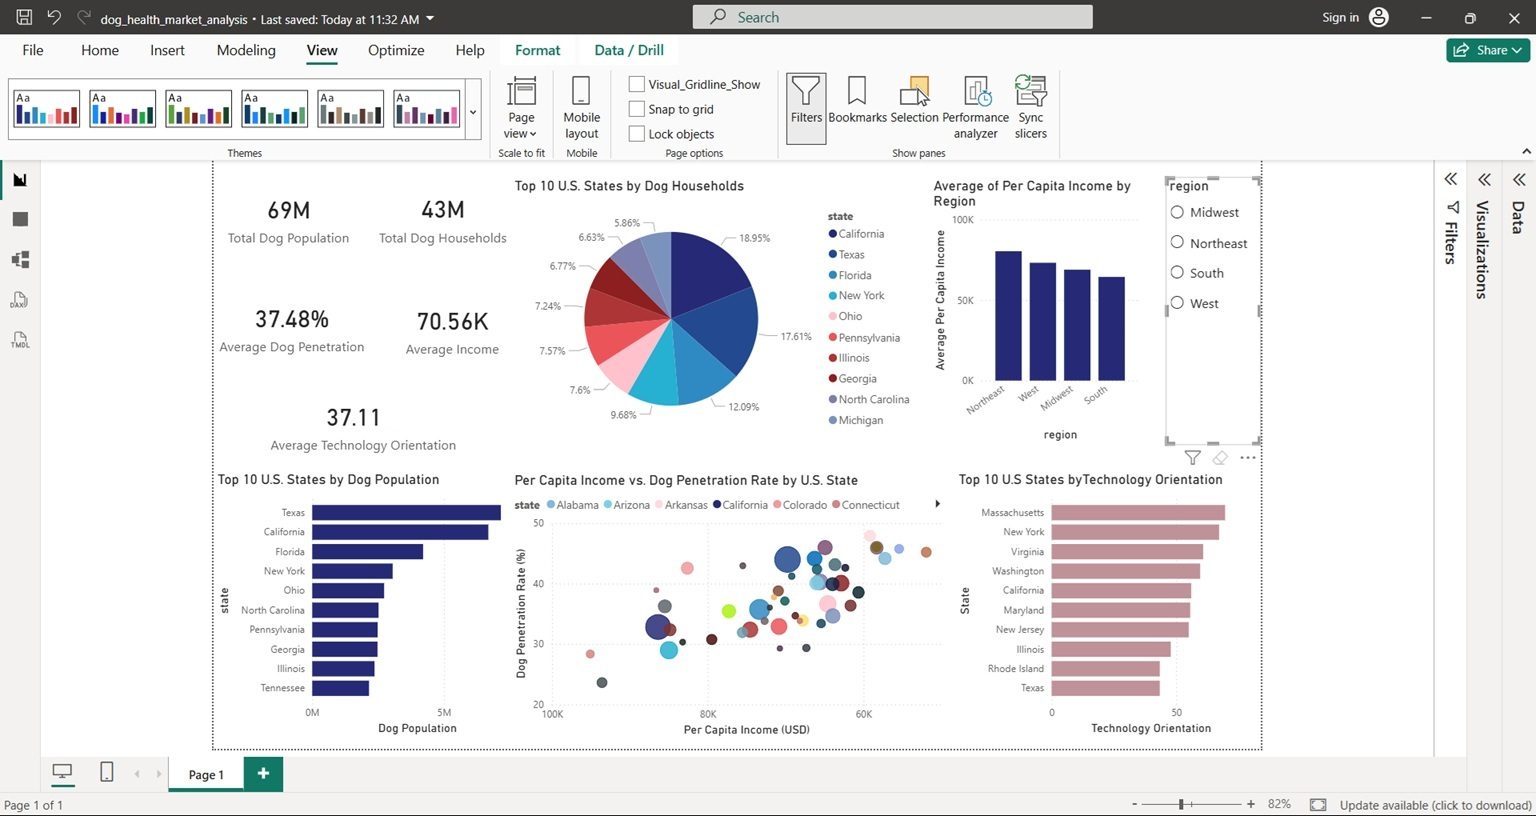

The dashboard page shown, as its layout file describes it:
{"tool":"powerbi","page":{"name":"Page 1","canvas":[1280,720],"ordinal":0},"visuals":[{"type":"card","fields":{"Values":["market market_kpis.Total Dog Households"]},"box":[183.4,0,194.4,139.4],"z":0},{"type":"actionButton","box":[0,0,100,40],"z":1000},{"type":"card","fields":{"Values":["market market_kpis.Total Dog Population"]},"box":[0,0,183.8,140],"z":2000},{"type":"card","fields":{"Values":["market market_kpis.Average Dog Penetration"]},"box":[0,128.4,192,149.2],"z":3000},{"type":"card","fields":{"Values":["market market_kpis.Average Income"]},"box":[192,130.8,200.5,150.4],"z":4000},{"type":"card","fields":{"Values":["market market_kpis.Average Technology Orientation"]},"box":[52.6,266.6,261.7,113.7],"z":5000},{"type":"clusteredBarChart","title":"Top 10 U.S. States by Dog Population","fields":{"Category":["market market_kpis.state"],"Y":["Sum(market market_kpis.dog_population)"]},"box":[0,380.1,392.5,328],"z":6000},{"type":"scatterChart","title":"Per Capita Income vs. Dog Penetration Rate by U.S. State","fields":{"X":["Sum(market market_kpis.per_capita_income)"],"Y":["Sum(market market_kpis.dog_penetration_rate)"],"Category":["market market_kpis.state"],"Size":["Sum(market market_kpis.dog_population)"],"Series":["market market_kpis.state"]},"box":[363.6,381.5,542,328],"z":7000},{"type":"listSlicer","fields":{"Values":["market market_kpis.region"]},"box":[1163.6,20.6,116.6,328],"z":8000},{"type":"clusteredBarChart","title":"Top 10 U.S States byTechnology Orientation","fields":{"Y":["Sum(market market_kpis.technology_orientation)"],"Category":["market market_kpis.state"]},"box":[905.7,380.1,374.6,328],"z":9000},{"type":"pieChart","title":"Top 10 U.S. States by Dog Households","fields":{"Y":["Sum(market market_kpis.dog_households)"],"Series":["market market_kpis.state"],"Category":["market market_kpis.state"]},"box":[363.6,20.6,502.2,328],"z":10000},{"type":"clusteredColumnChart","title":"Average of Per Capita Income by Region","fields":{"Category":["market market_kpis.region"],"Y":["Avg(market market_kpis.per_capita_income)"]},"box":[875.5,20.6,262.1,328],"z":11000}]}

Visuals, with their boxes on the page's 1280x720 design canvas (x1, y1, x2, y2). These are canvas units, not pixel positions in the 1536x816 screenshot, which may show the page scaled, cropped or inside an application window:
card - market market_kpis.Total Dog Households: crop(183, 0, 378, 139)
actionButton: crop(0, 0, 100, 40)
card - market market_kpis.Total Dog Population: crop(0, 0, 184, 140)
card - market market_kpis.Average Dog Penetration: crop(0, 128, 192, 278)
card - market market_kpis.Average Income: crop(192, 131, 392, 281)
card - market market_kpis.Average Technology Orientation: crop(53, 267, 314, 380)
"Top 10 U.S. States by Dog Population" clusteredBarChart: crop(0, 380, 392, 708)
"Per Capita Income vs. Dog Penetration Rate by U.S. State" scatterChart: crop(364, 382, 906, 710)
listSlicer - market market_kpis.region: crop(1164, 21, 1280, 349)
"Top 10 U.S States byTechnology Orientation" clusteredBarChart: crop(906, 380, 1280, 708)
"Top 10 U.S. States by Dog Households" pieChart: crop(364, 21, 866, 349)
"Average of Per Capita Income by Region" clusteredColumnChart: crop(876, 21, 1138, 349)
